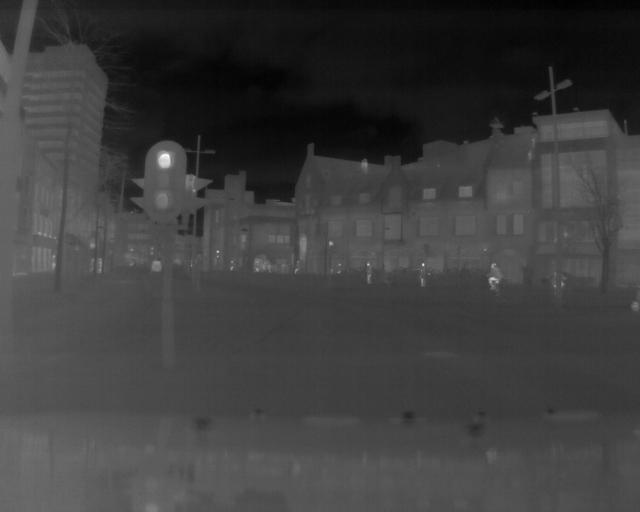person: (488, 262, 502, 296), (365, 261, 373, 288)
